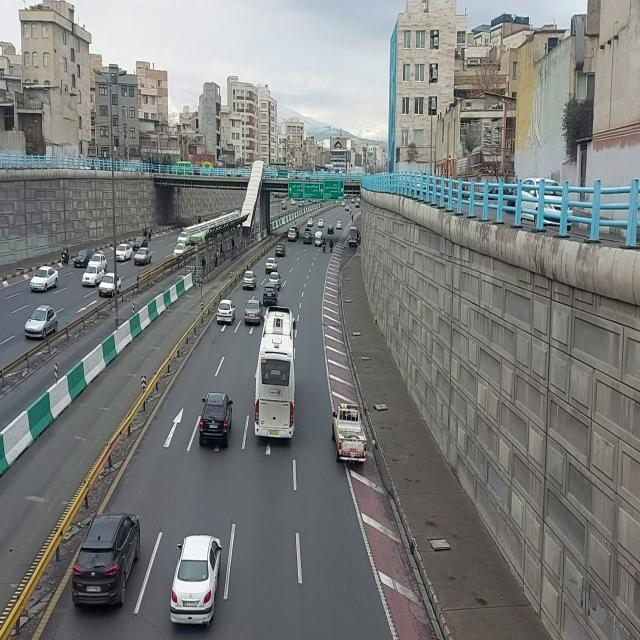Bus: (255, 309, 295, 441)
Car: (70, 512, 141, 614), (168, 532, 221, 628), (199, 394, 233, 452), (24, 303, 60, 343), (30, 266, 59, 294), (244, 297, 265, 327), (98, 272, 122, 298), (217, 297, 237, 327), (81, 264, 105, 288), (134, 245, 153, 269), (262, 282, 280, 306), (74, 247, 92, 269), (116, 241, 133, 263), (242, 269, 257, 293), (87, 253, 109, 268), (264, 256, 280, 272), (134, 236, 149, 251), (173, 243, 187, 257), (176, 231, 190, 245), (275, 244, 288, 259), (268, 271, 282, 284), (303, 232, 313, 246), (288, 228, 298, 242), (318, 217, 325, 228), (307, 217, 314, 227), (336, 220, 342, 231), (345, 205, 349, 212), (342, 201, 346, 207)
Motorcycle: (62, 243, 70, 268), (329, 238, 334, 254), (148, 224, 152, 243), (322, 238, 326, 254), (143, 223, 147, 237), (197, 215, 201, 225), (351, 214, 353, 224), (350, 206, 352, 215)
Pickup: (332, 401, 366, 466), (314, 231, 323, 247)
